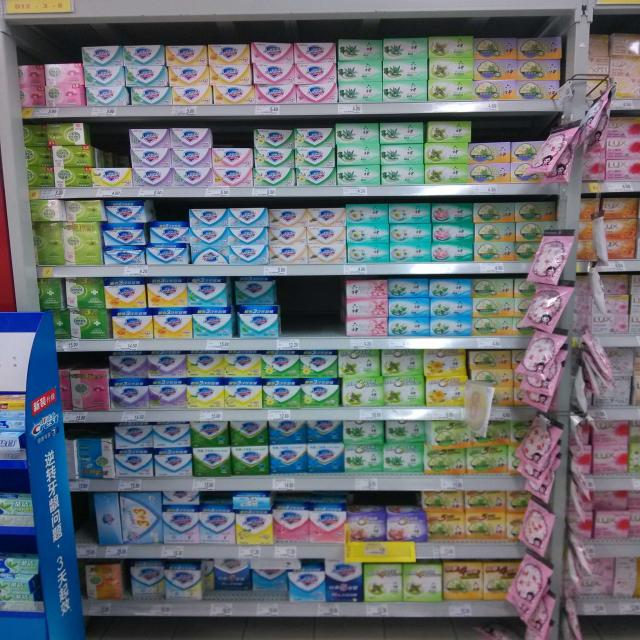void: (282, 276, 314, 348), (317, 274, 347, 349), (71, 492, 94, 558)
